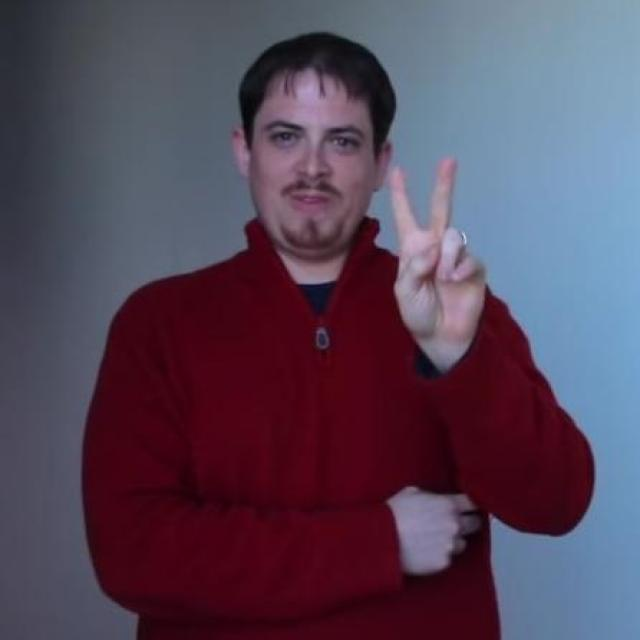V: (382, 154, 490, 346)
